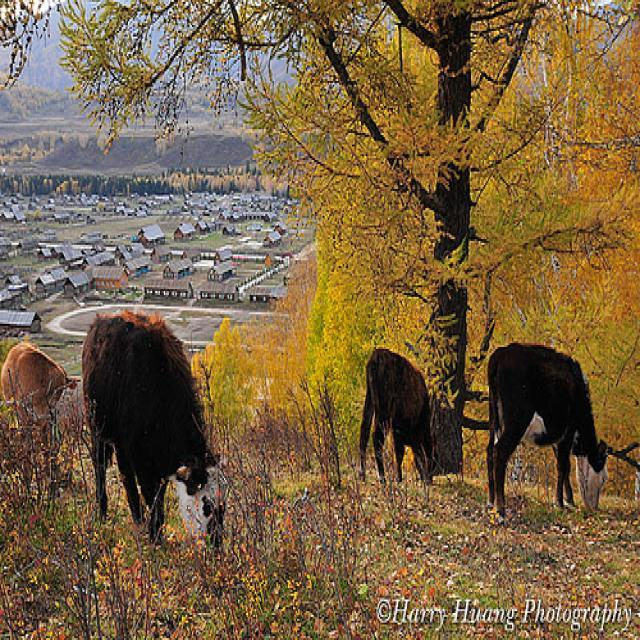cow: (81, 308, 223, 559), (483, 337, 609, 513), (0, 337, 79, 472), (358, 343, 430, 484)
